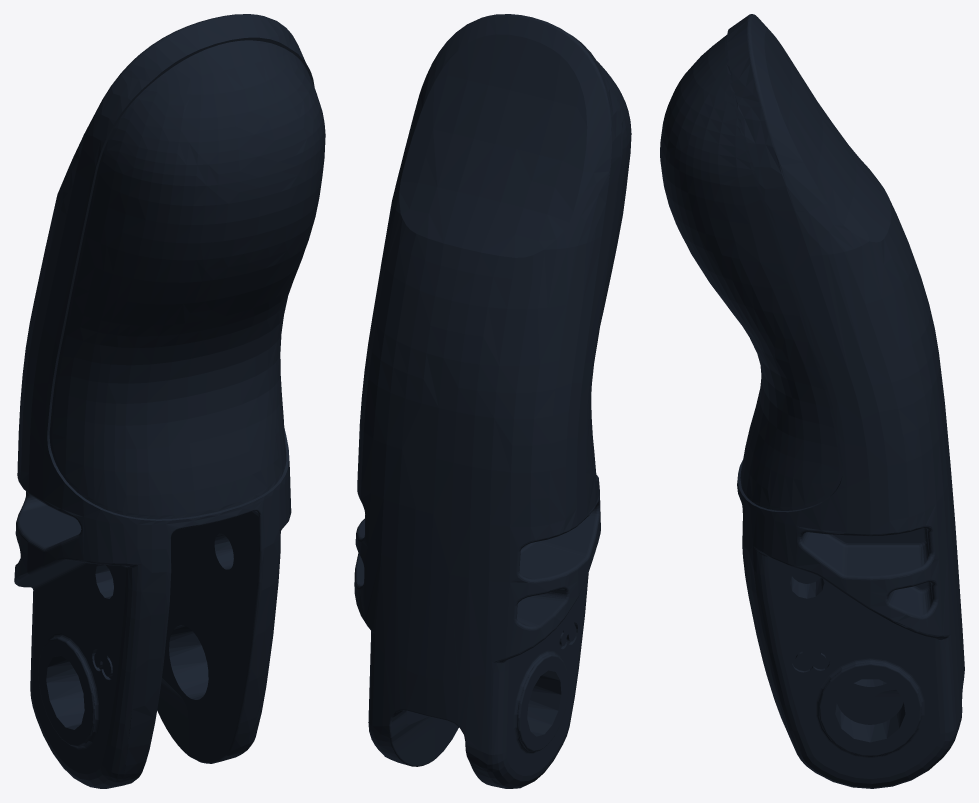
The model's file is L_ring_dist.obj.
The picture shows the model from 3 angles, left to right: view 1: azimuth 30°, elevation 25°; view 2: azimuth 150°, elevation 25°; view 3: azimuth 270°, elevation 25°; orthographic projection. The views are drawn at different scales.
Visible parts, largest first — view 1: L_ring_dist-mesh; view 2: L_ring_dist-mesh; view 3: L_ring_dist-mesh.
Boxes of the visible parts, x1=… form: L_ring_dist-mesh: x1=14, y1=14, x2=325, y2=788; L_ring_dist-mesh: x1=354, y1=14, x2=631, y2=788; L_ring_dist-mesh: x1=660, y1=14, x2=964, y2=788.
Size of the model in its own units: 0.0147 by 0.047 by 0.0177.
